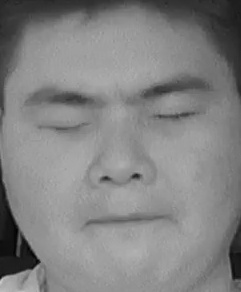blink: (33, 109, 92, 146), (151, 100, 207, 134)
mouth: (83, 198, 174, 243)
